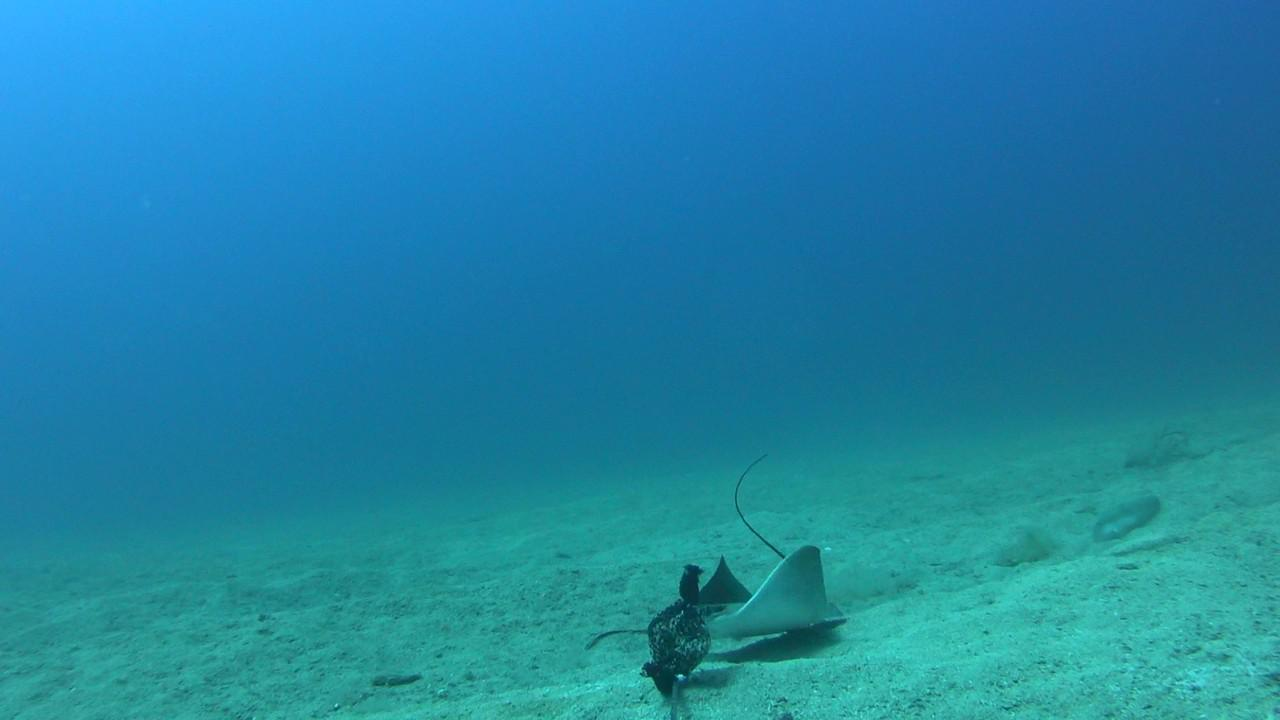myliobatis: (654, 439, 876, 647)
raor: (1090, 487, 1162, 543)
